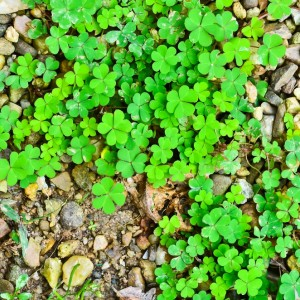oxalis: (17, 6, 296, 300)
